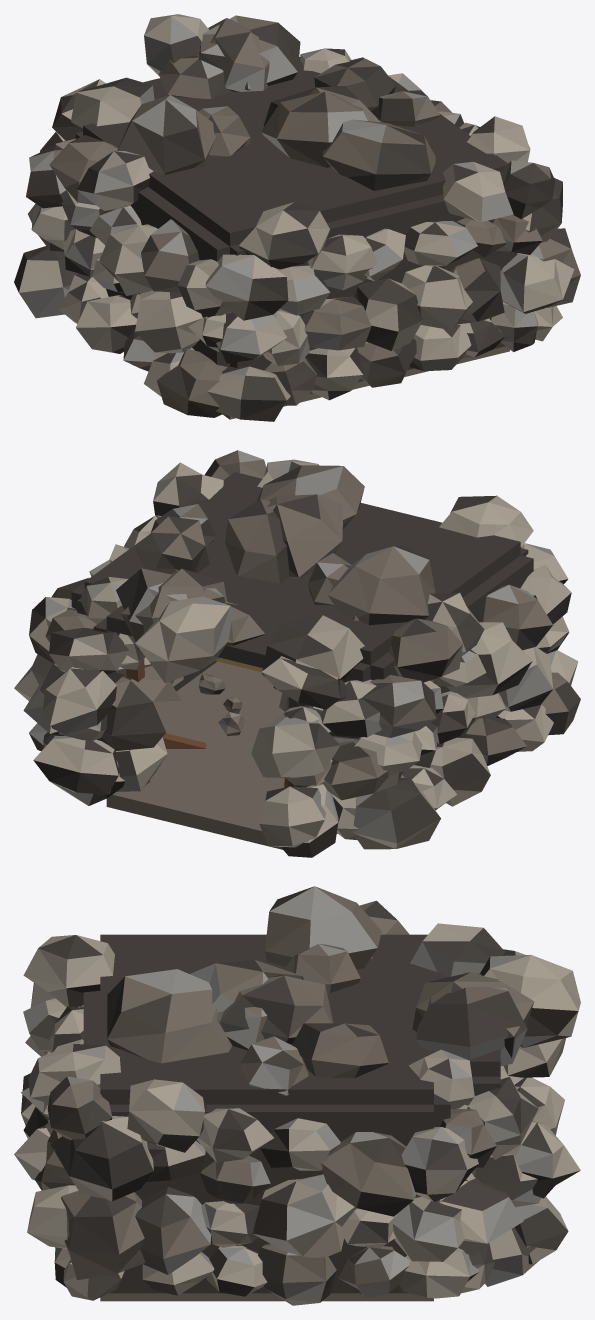
File: Cave_Mines_Pocket.fbx
3 renders of one model, top to bottom at view 1: azimuth 30°, elevation 25°; view 2: azimuth 150°, elevation 25°; view 3: azimuth 270°, elevation 25°, orthographic. The views are drawn at different scales.
Visible parts, largest first — view 1: Decor, Ceiling2, Wall3, Wall6, Floor2; view 2: Decor, Ceiling2, Floor2, Floor1, Wall6, Ceiling1; view 3: Decor, Ceiling2, Wall4, Floor2, Wall3, Ceiling1.
Part boxes in pixels (box(x1,y1,x2,y2)): Decor: box(14, 14, 580, 421); Ceiling2: box(83, 57, 507, 246); Wall3: box(230, 194, 517, 393); Wall6: box(106, 187, 229, 366); Floor2: box(223, 346, 509, 419); Decor: box(14, 450, 580, 857); Ceiling2: box(84, 472, 520, 664); Floor2: box(153, 661, 337, 833); Floor1: box(106, 775, 282, 849); Wall6: box(370, 555, 533, 777); Ceiling1: box(106, 605, 277, 667); Decor: box(14, 886, 580, 1305); Ceiling2: box(100, 934, 433, 1104); Wall4: box(109, 1104, 433, 1293); Floor2: box(100, 1293, 433, 1301); Wall3: box(83, 990, 100, 1045); Ceiling1: box(434, 971, 500, 1076).
Size of the model in its own units: 32.81 by 18.31 by 33.99.
